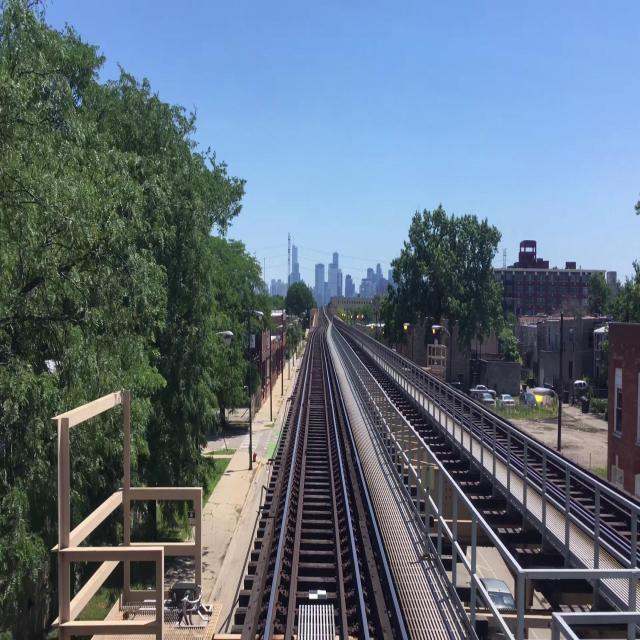rail-track: (269, 309, 364, 639)
